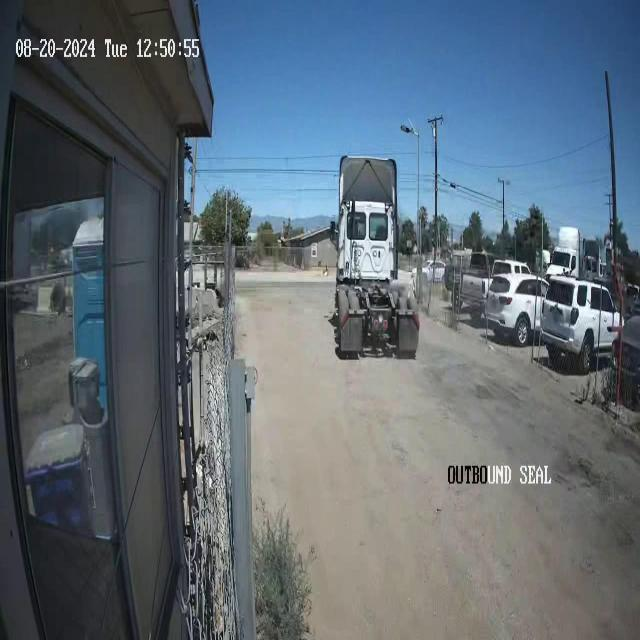TRUCK_OUT: (330, 154, 420, 360)
